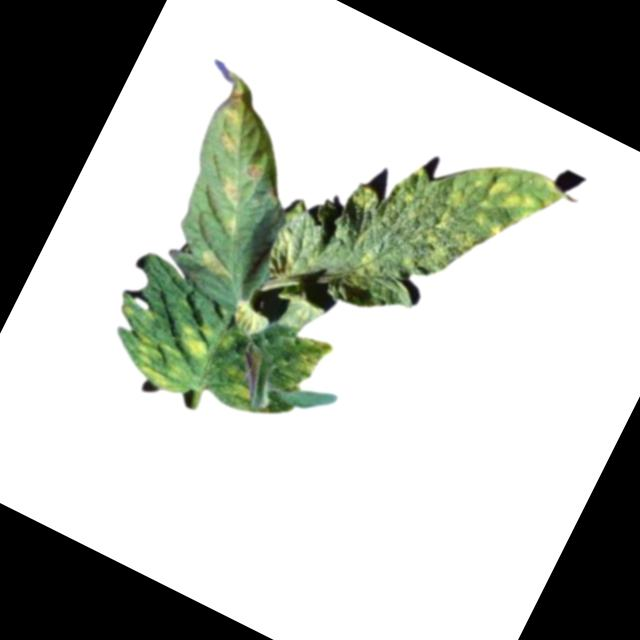Leaf_Mold: (401, 134, 569, 317), (95, 284, 225, 402), (280, 327, 337, 384), (216, 81, 261, 129), (224, 297, 271, 340), (207, 170, 251, 212), (192, 241, 235, 282), (348, 243, 389, 284), (216, 210, 249, 243), (215, 125, 242, 153)
